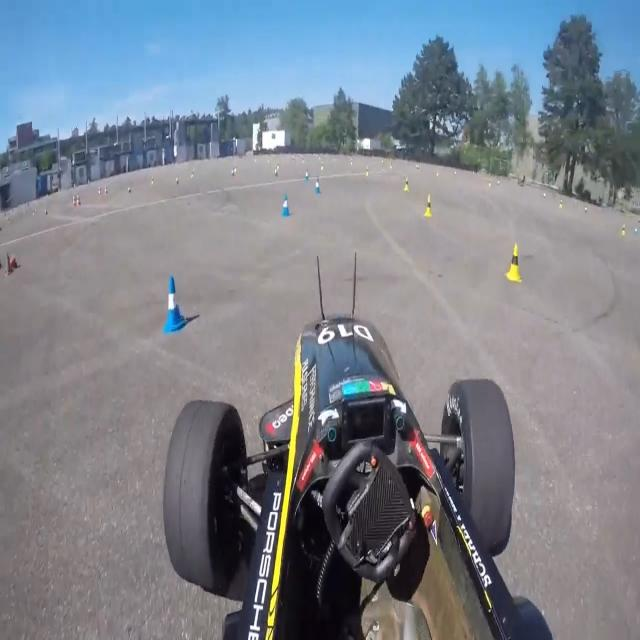blue_cone: (158, 270, 187, 335), (280, 191, 290, 216), (314, 174, 321, 194), (304, 168, 310, 182), (274, 166, 278, 178)
yellow_cone: (503, 235, 523, 283), (423, 190, 433, 218), (404, 175, 411, 192), (365, 164, 370, 177)
